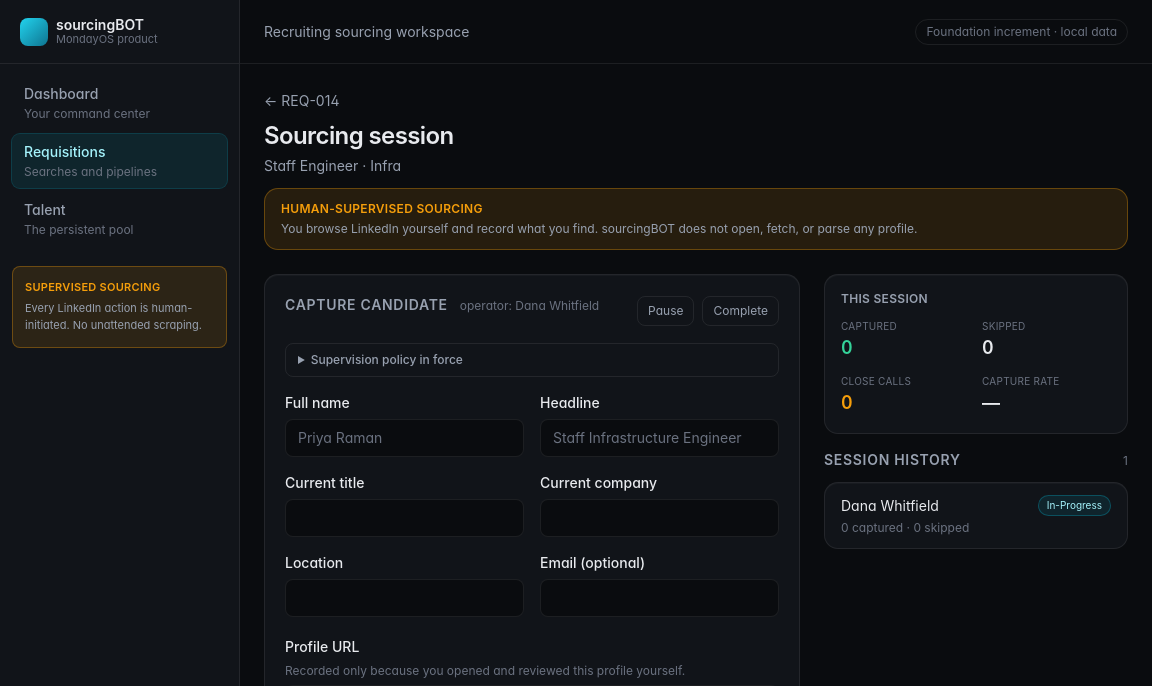
pause and resume › completes the session and returns to the gate
The width and height of the screenshot is (1152, 686).
Click the button "Complete" at (741, 311), box [702,296,779,326]
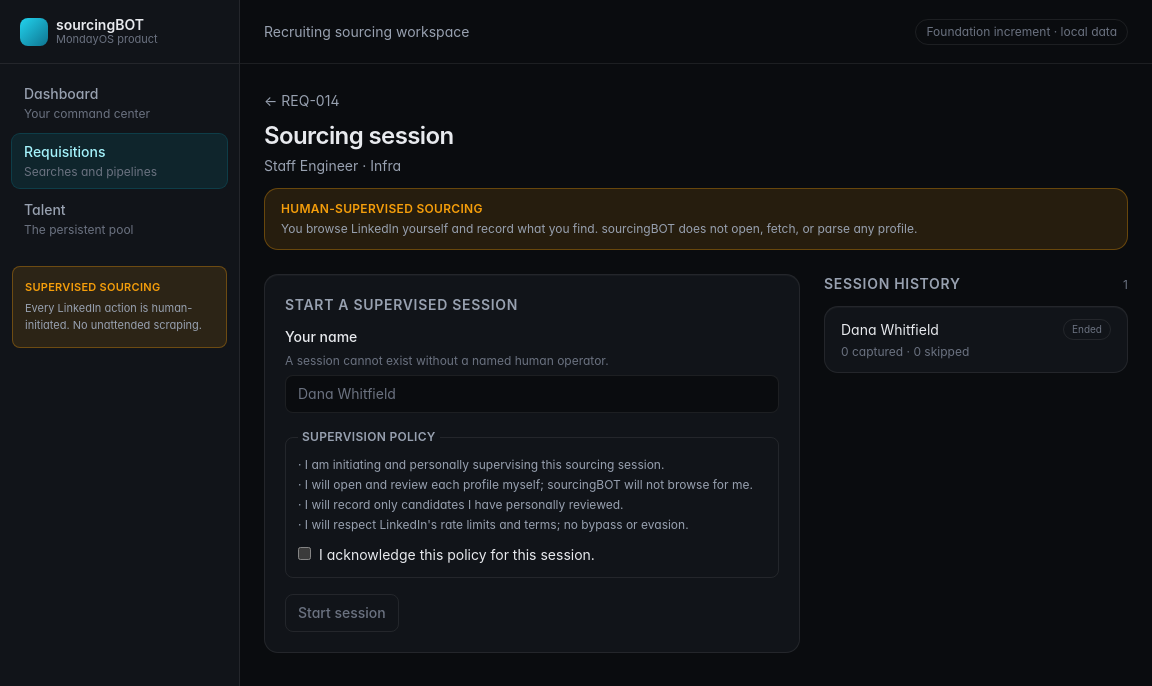
Now the button "Start session" is shown, box [285,594,399,632]
